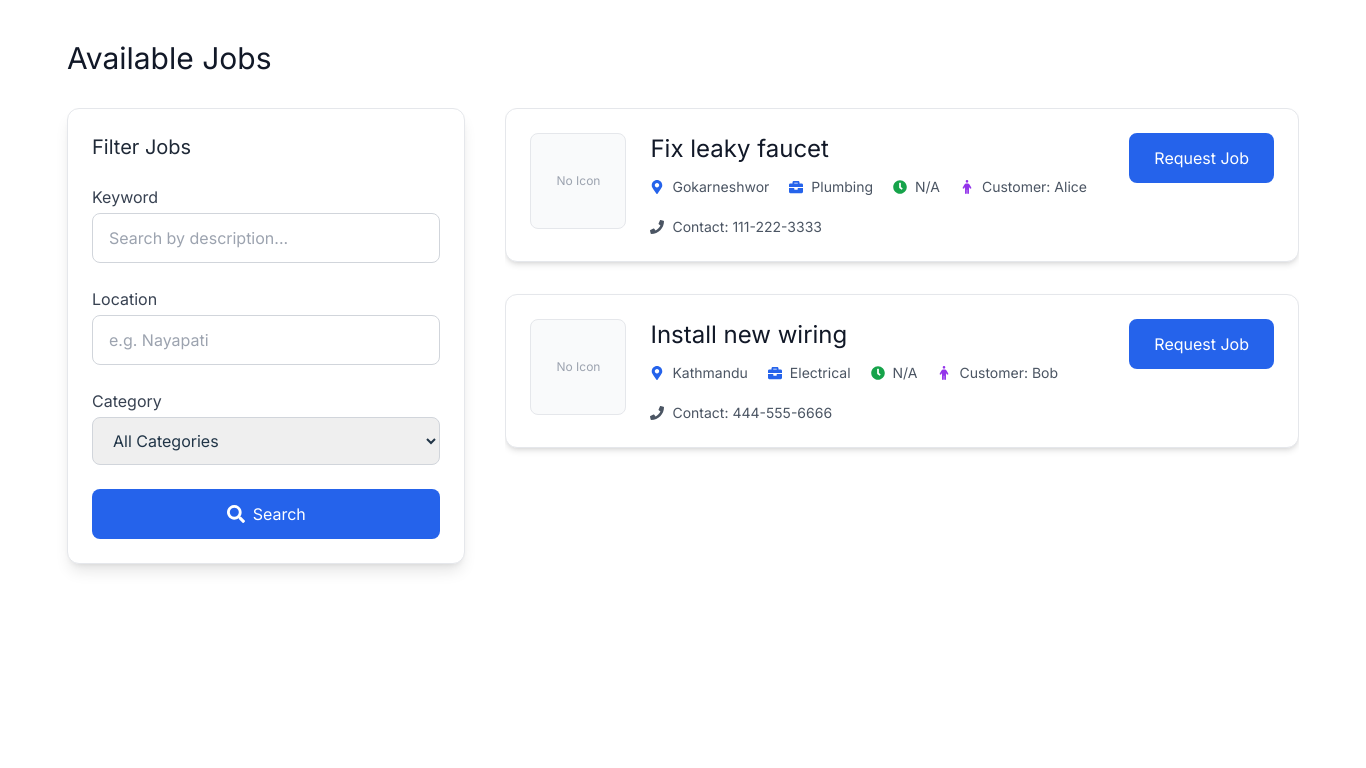
WorkerJobList › opens modal and closes it with the cancel button
This screenshot has width=1366, height=768.
Click the button with aria-label "Request job: Fix leaky faucet".
click(1202, 158)  # box 1129,133 -> 1274,183
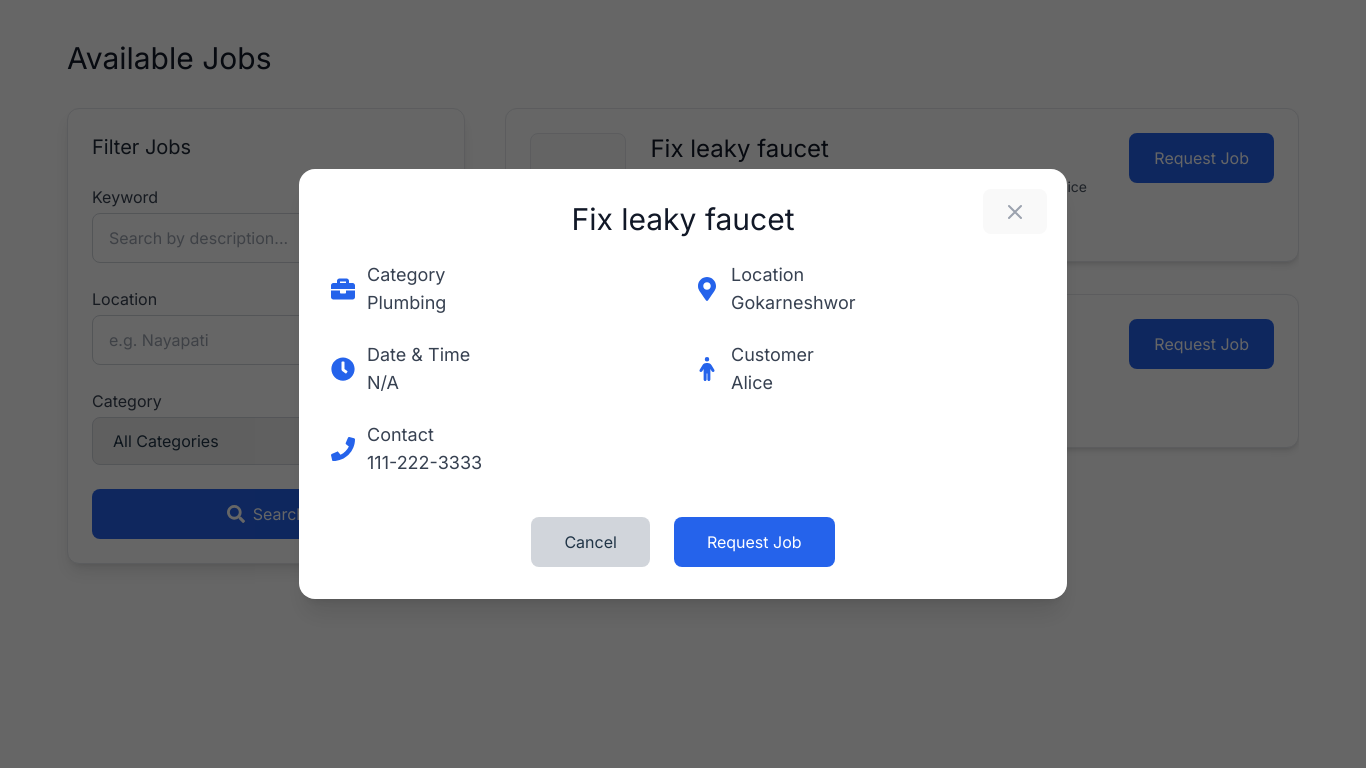
Click the button "Cancel".
click(591, 542)  # box 531,517 -> 650,567
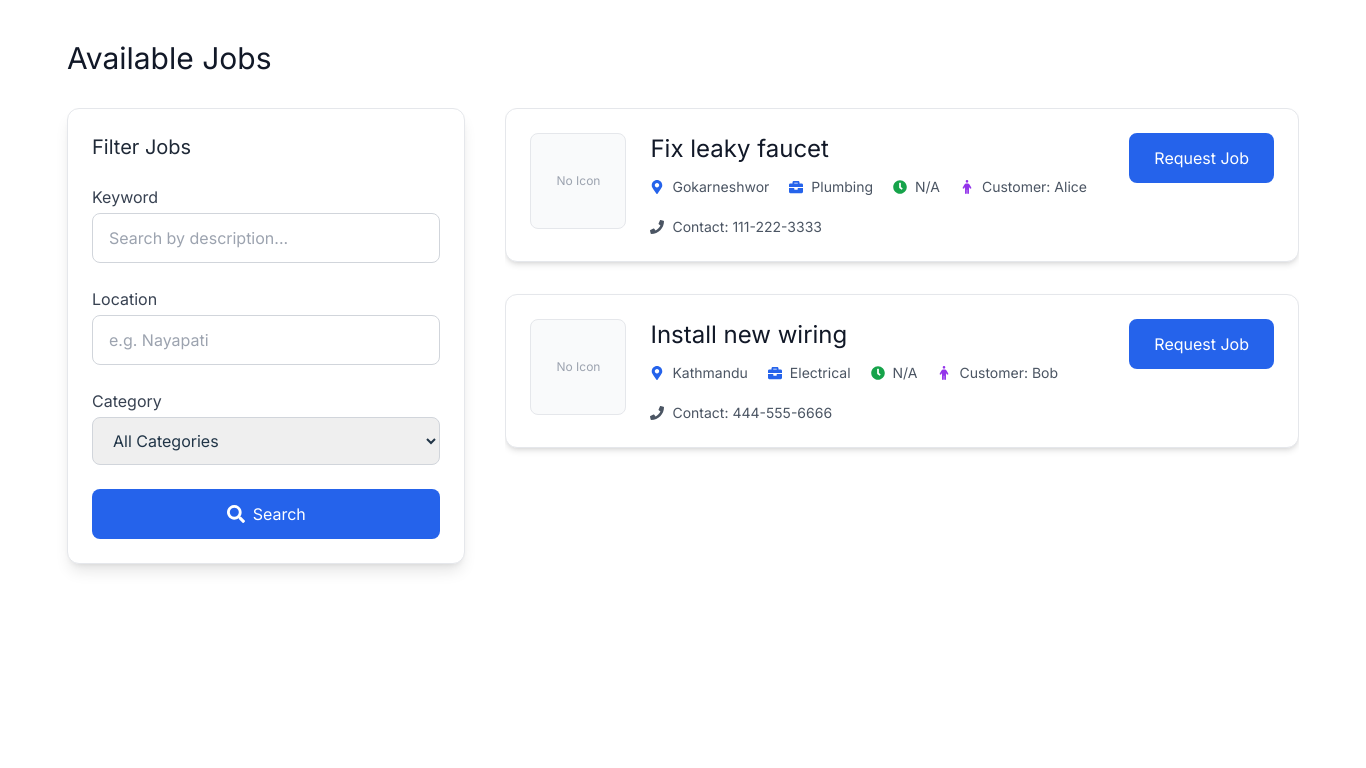
Check: the dialog is gone
